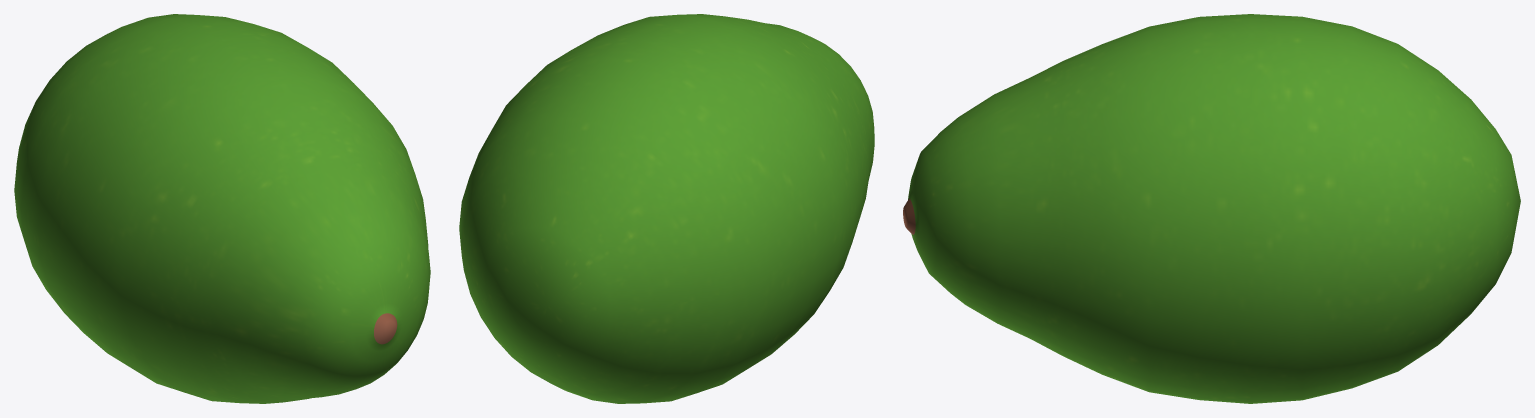
The model's file is Avocado_Whole.fbx.
The picture shows the model from 3 angles, left to right: view 1: azimuth 30°, elevation 25°; view 2: azimuth 150°, elevation 25°; view 3: azimuth 270°, elevation 25°; orthographic projection. The views are drawn at different scales.
Parts seen in each view (by area): view 1: Sphere.007; view 2: Sphere.007; view 3: Sphere.007.
Part boxes in pixels (x1,y1,x2,y2): Sphere.007: [14, 14, 430, 403]; Sphere.007: [459, 14, 874, 403]; Sphere.007: [903, 14, 1520, 403].
Size of the model in its own units: 93.35 by 93.35 by 148.
